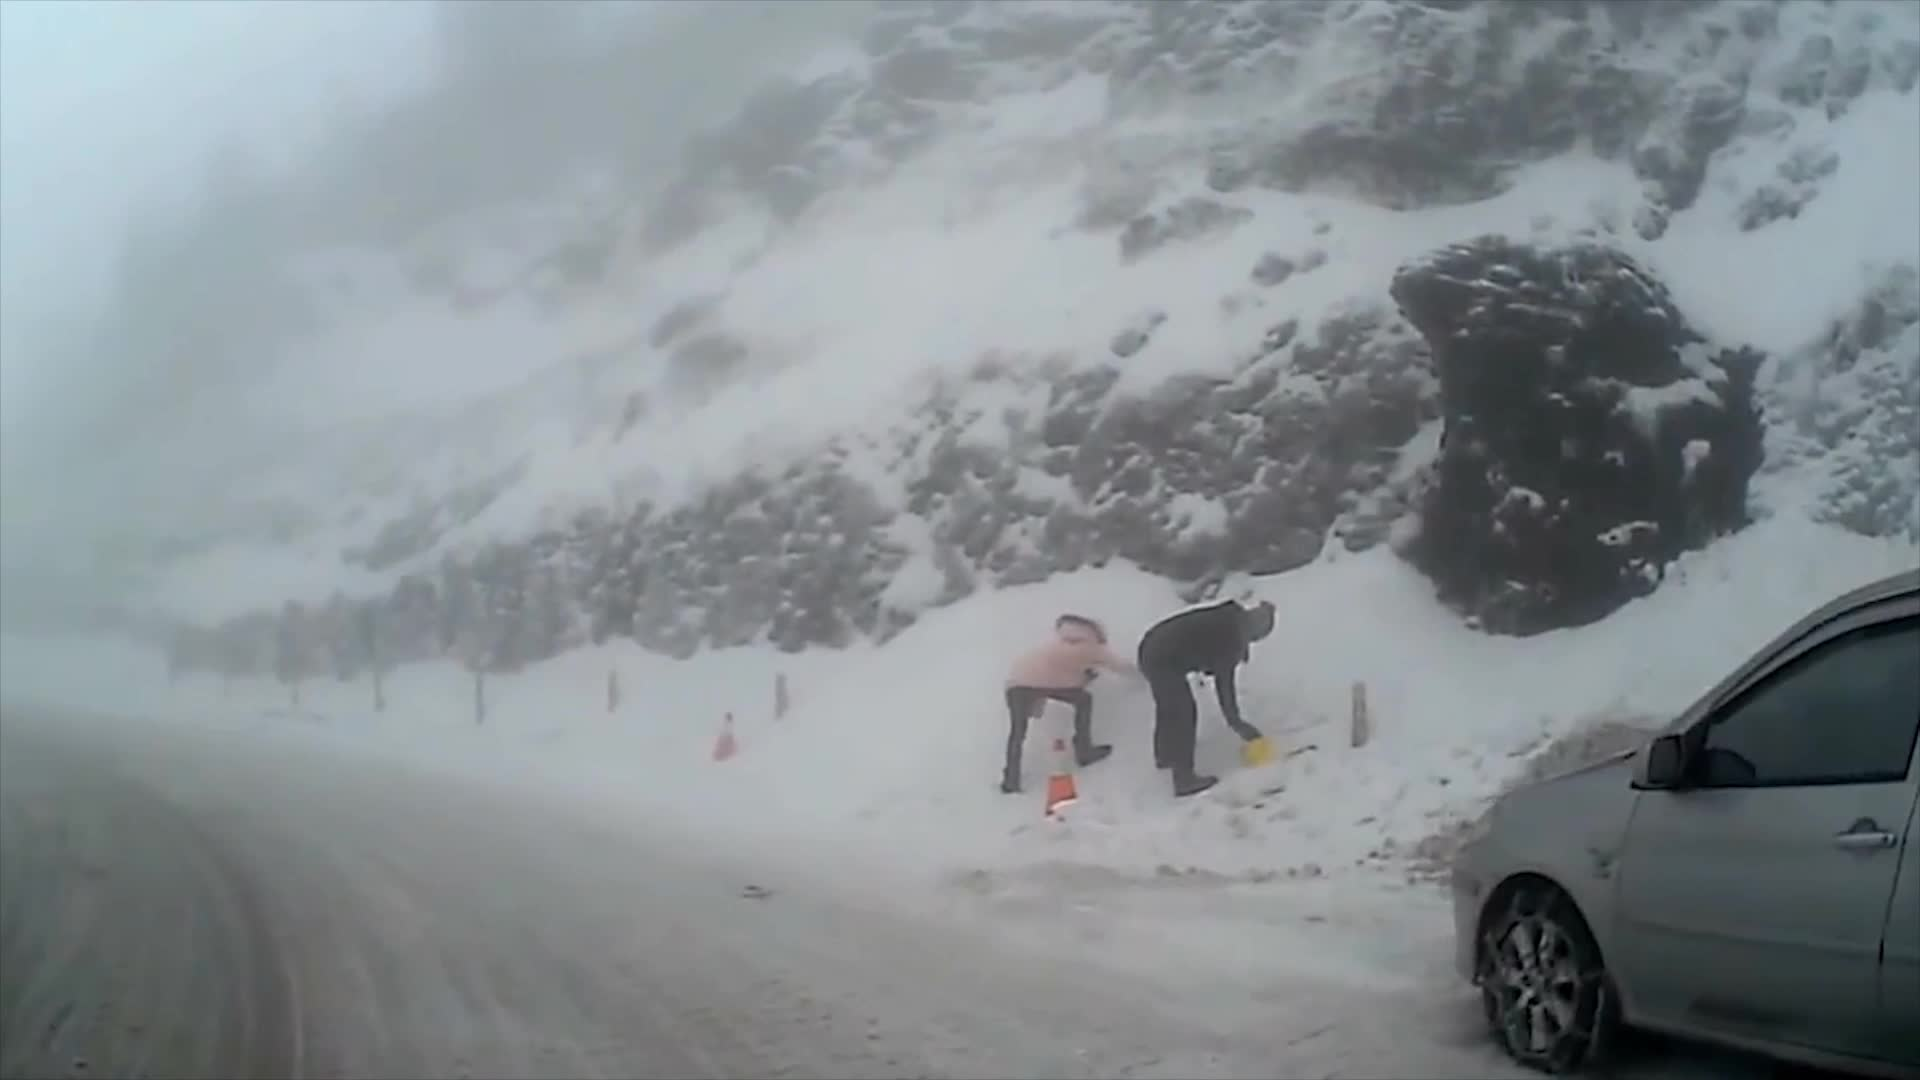pedestrian: (1138, 593, 1272, 796), (995, 614, 1142, 792)
vehicle: (1452, 565, 1920, 1079)
